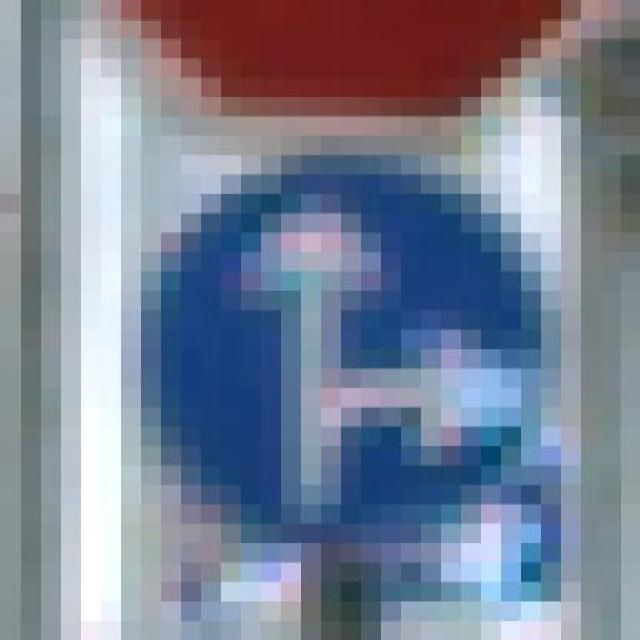Go Straight or Turn Right: (120, 135, 600, 563)
